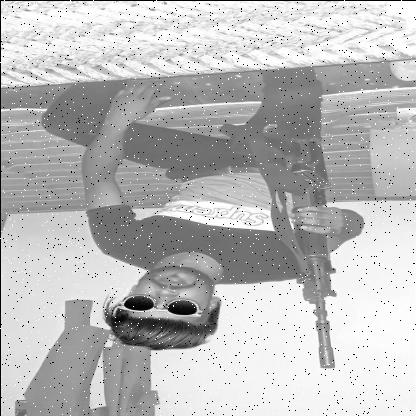rifle: (278, 132, 338, 369)
